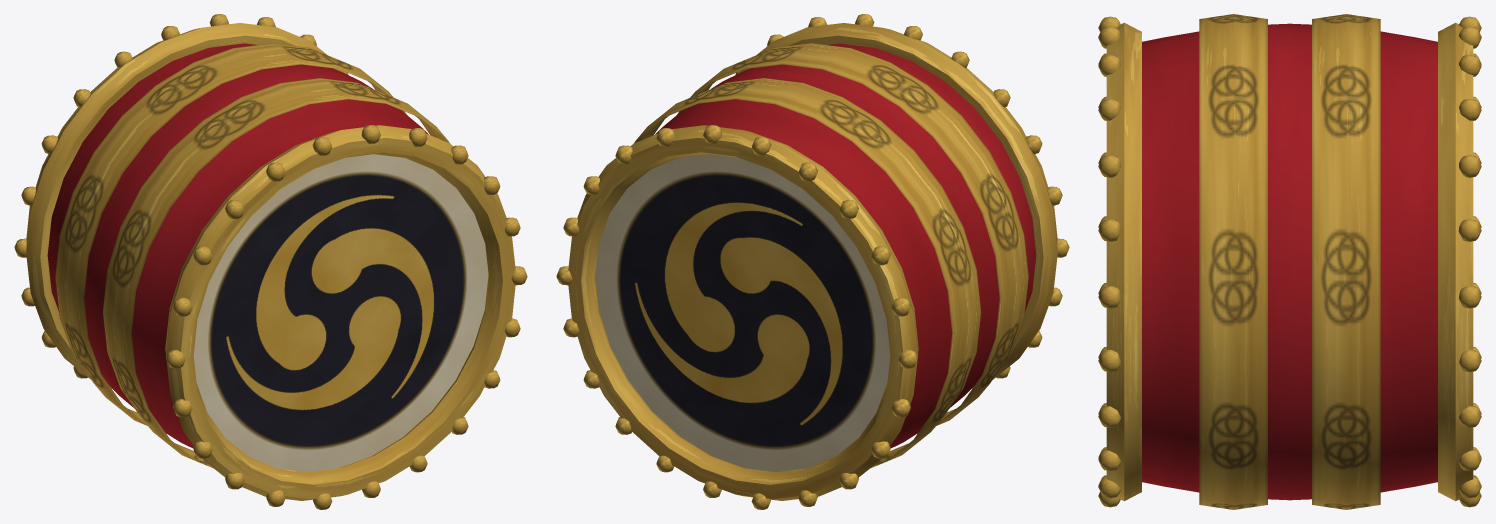
Rendered from drum.glb.
3 views of the same model, side by side, from view 1: azimuth 30°, elevation 25°; view 2: azimuth 150°, elevation 25°; view 3: azimuth 270°, elevation 25° (orthographic). The views are drawn at different scales.
Parts seen in each view (by area): view 1: Drum_4; view 2: Drum_4; view 3: Drum_4.
Boxes of the visible parts, x1,y1,x2,y2 form: Drum_4: (14, 14, 527, 509); Drum_4: (556, 14, 1069, 509); Drum_4: (1098, 14, 1481, 509).
Size of the model in its own units: 0.3893 by 0.3893 by 0.301.
1 material, 1 textured.
